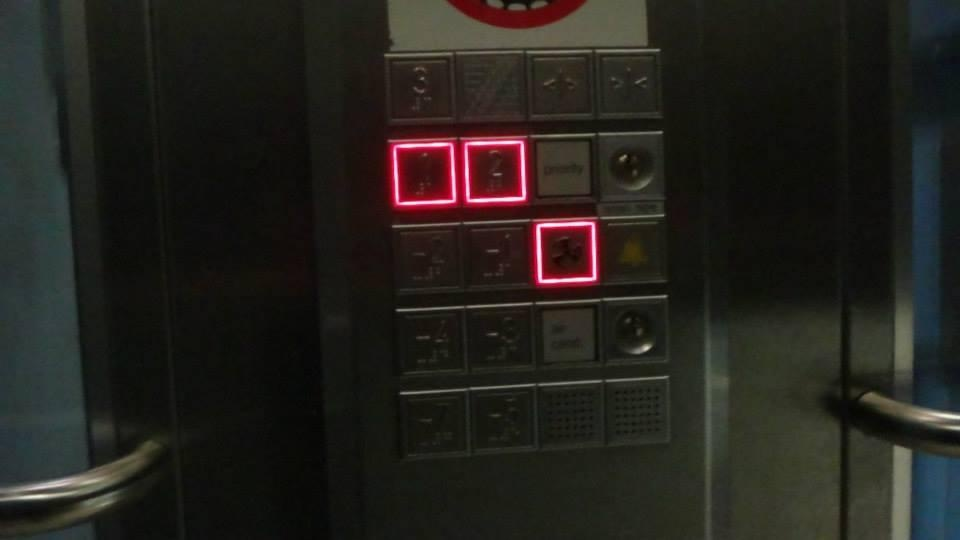-1: (460, 216, 535, 294)
-2: (390, 219, 462, 296)
-3: (463, 300, 536, 374)
-4: (392, 304, 467, 377)
-5: (467, 384, 539, 455)
-7: (398, 387, 469, 457)
1: (383, 134, 461, 209)
2: (460, 135, 528, 208)
3: (383, 46, 455, 123)
alarm: (596, 212, 669, 289)
blur: (454, 47, 526, 122)
close: (593, 45, 663, 122)
fan: (531, 214, 600, 290)
open: (523, 44, 597, 121)
speaker: (603, 376, 673, 449), (537, 380, 606, 454)
text_blur: (526, 131, 598, 207), (532, 296, 603, 372)
unknown: (594, 130, 668, 206), (601, 293, 671, 368)
